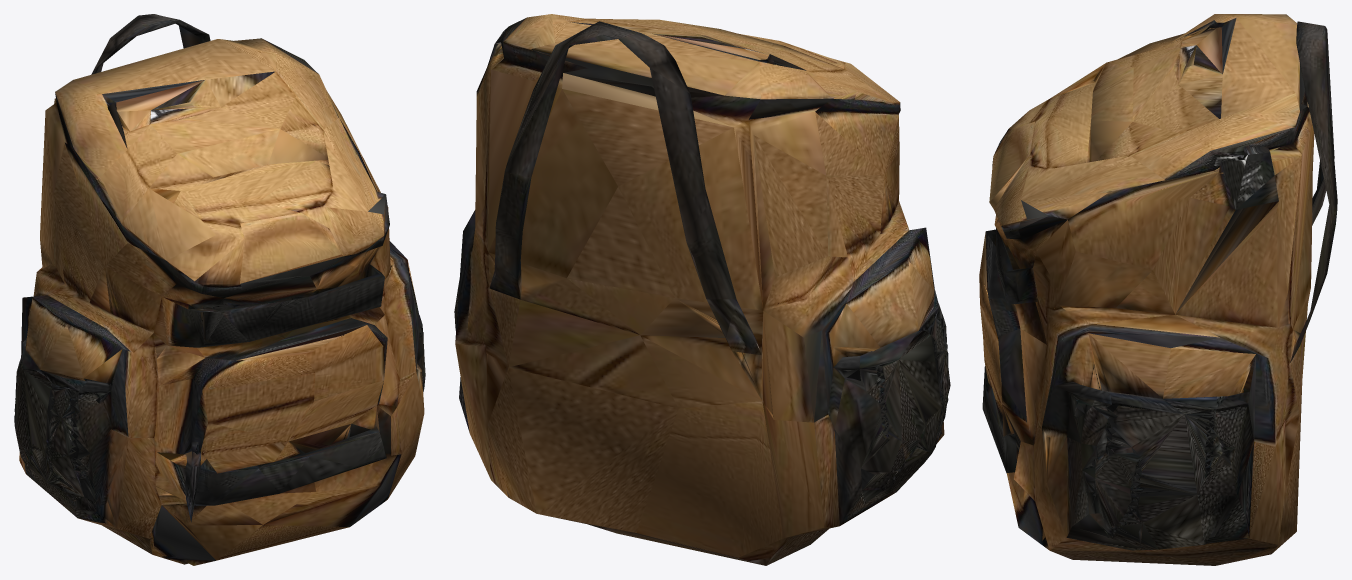
The model's file is mochila_esportiva.glb.
The picture shows the model from 3 angles, left to right: view 1: azimuth 30°, elevation 25°; view 2: azimuth 150°, elevation 25°; view 3: azimuth 270°, elevation 25°; orthographic projection. The views are drawn at different scales.
Visible parts, largest first — view 1: Prop_mochila_esportiva; view 2: Prop_mochila_esportiva; view 3: Prop_mochila_esportiva.
Part boxes in pixels (x1,y1,x2,y2): Prop_mochila_esportiva: (14,14,425,565); Prop_mochila_esportiva: (454,14,950,565); Prop_mochila_esportiva: (979,14,1337,565).
Size of the model in its own units: 0.4268 by 0.48 by 0.3262.
1 material, 1 textured.
